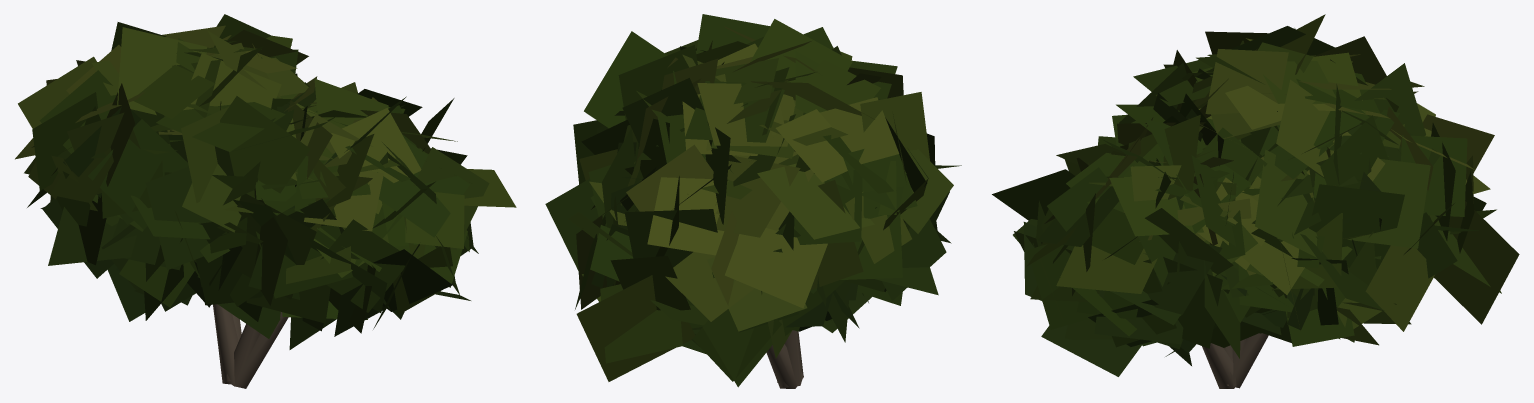
File: PLN_Bush_Round.fbx
3 renders of one model, left to right at view 1: azimuth 30°, elevation 25°; view 2: azimuth 150°, elevation 25°; view 3: azimuth 270°, elevation 25°, orthographic. The views are drawn at different scales.
Parts seen in each view (by area): view 1: PLN_Bush_Round; view 2: PLN_Bush_Round; view 3: PLN_Bush_Round.
Boxes of the visible parts, x1,y1,x2,y2 form: PLN_Bush_Round: [15, 14, 516, 388]; PLN_Bush_Round: [545, 14, 961, 388]; PLN_Bush_Round: [992, 14, 1519, 388].
Bounding box in the file's own units: 2.67 × 2.22 × 3.13.
